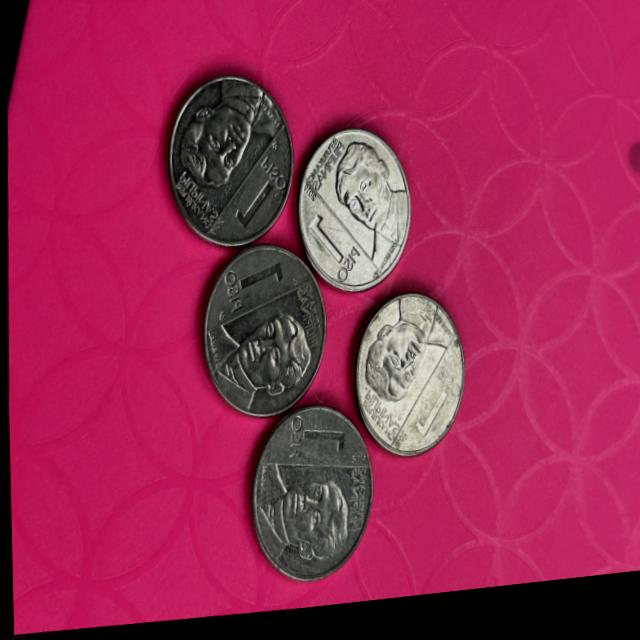1_New_Front: (300, 217, 358, 295), (237, 153, 290, 238), (406, 375, 459, 454), (278, 416, 344, 465), (220, 274, 286, 314)
